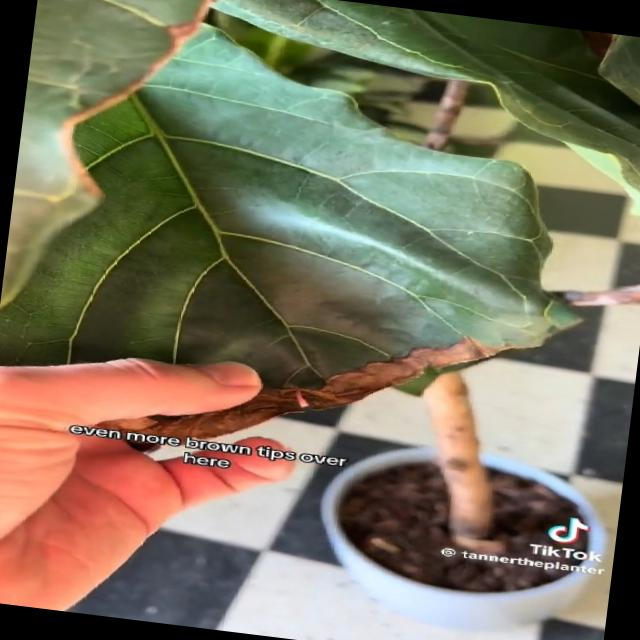lisc_suchy: (0, 0, 584, 453)
